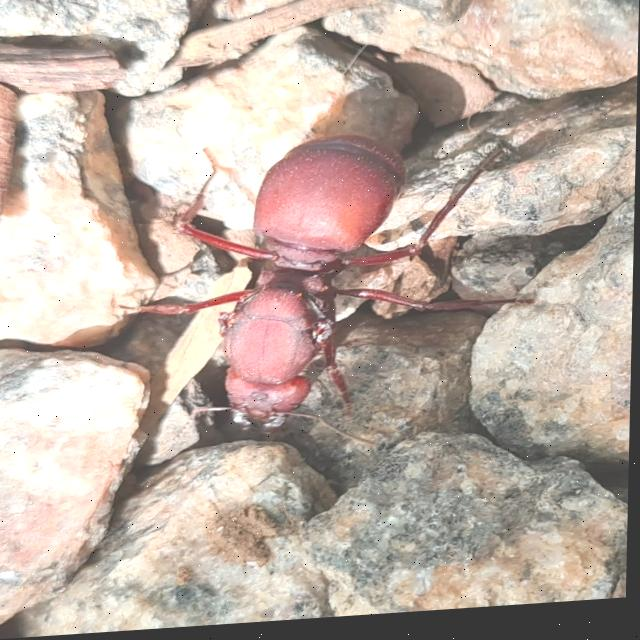Alive-Female-Dealate: (115, 128, 539, 465)
